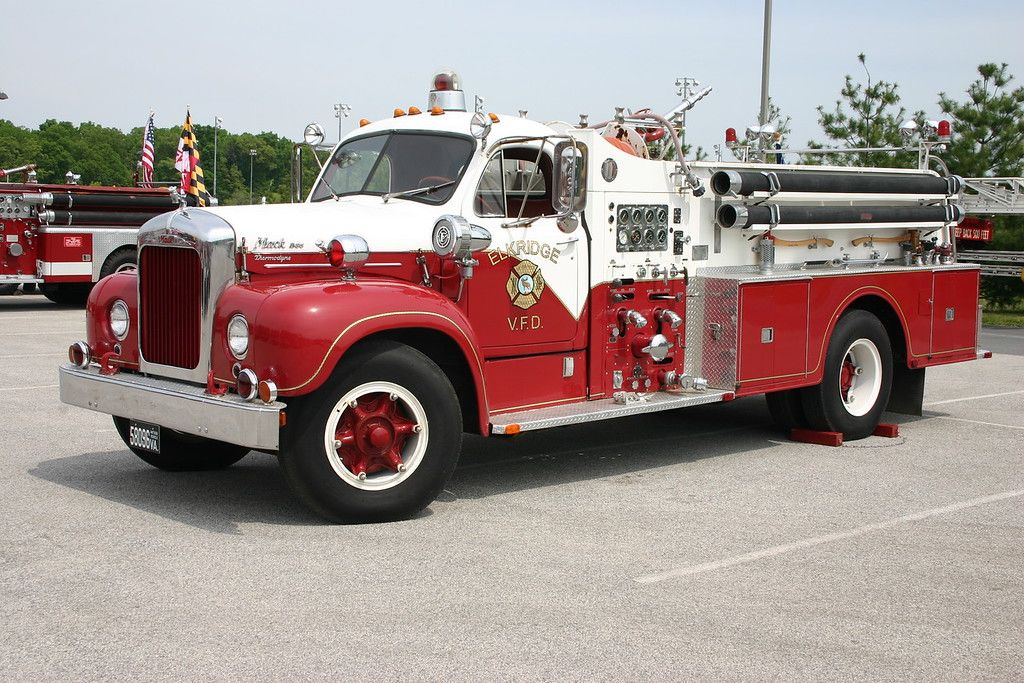firetruck: (54, 42, 994, 527)
